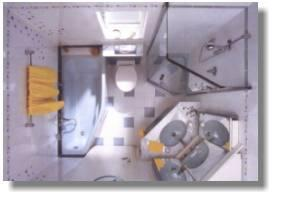Ducha: (148, 8, 256, 99)
